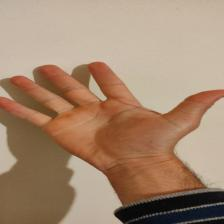five: (4, 60, 220, 153)
